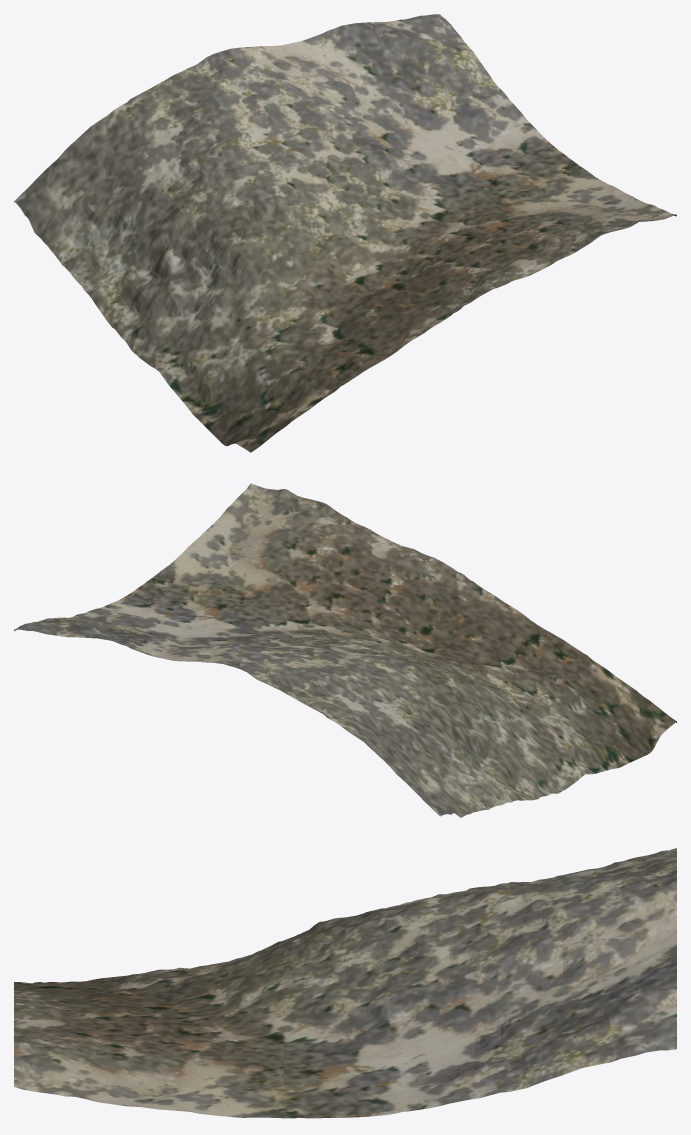
3 views of the same model, one above another, from view 1: azimuth 30°, elevation 25°; view 2: azimuth 150°, elevation 25°; view 3: azimuth 270°, elevation 25° (orthographic). The views are drawn at different scales.
Bounding box in the file's own units: 250 × 107 × 241.
1 material, 1 textured.
